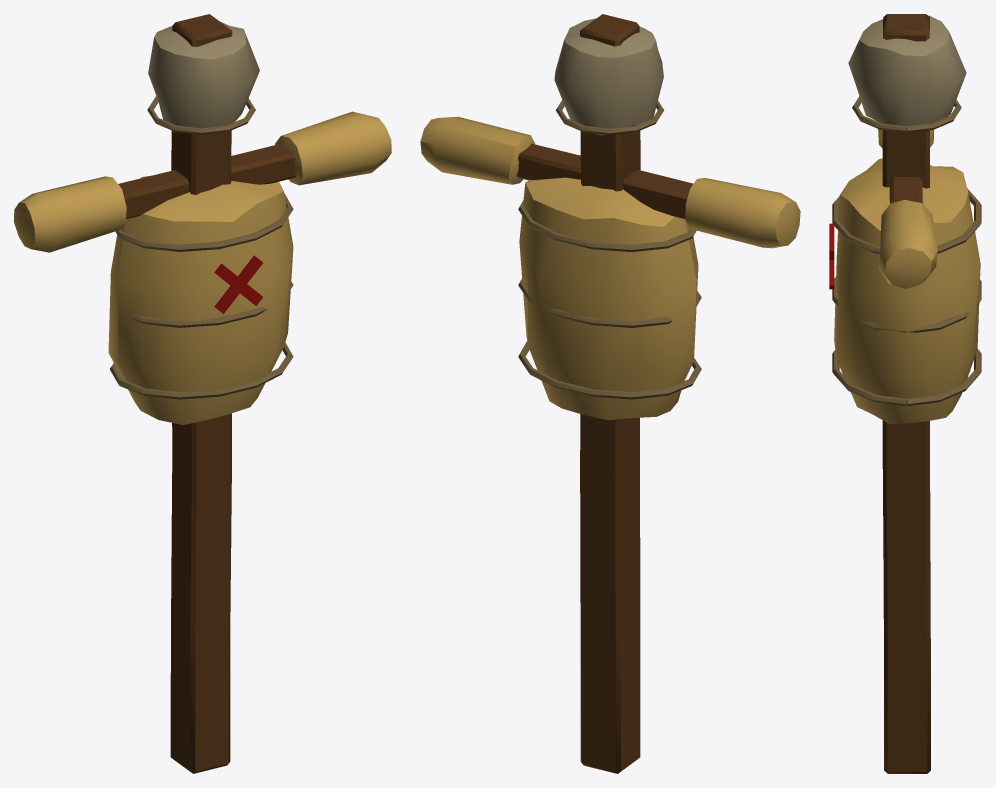
The model's file is trainingspuppe.glb.
3 renders of one model, left to right at view 1: azimuth 30°, elevation 25°; view 2: azimuth 150°, elevation 25°; view 3: azimuth 270°, elevation 25°, orthographic.
Parts seen in each view (by area): view 1: trainingspuppe; view 2: trainingspuppe; view 3: trainingspuppe.
Boxes of the visible parts, x1,y1,x2,y2 form: trainingspuppe: (14,14,391,773); trainingspuppe: (420,14,800,773); trainingspuppe: (829,14,981,773).
Bounding box in the file's own units: 0.9064 × 1.75 × 0.324.
